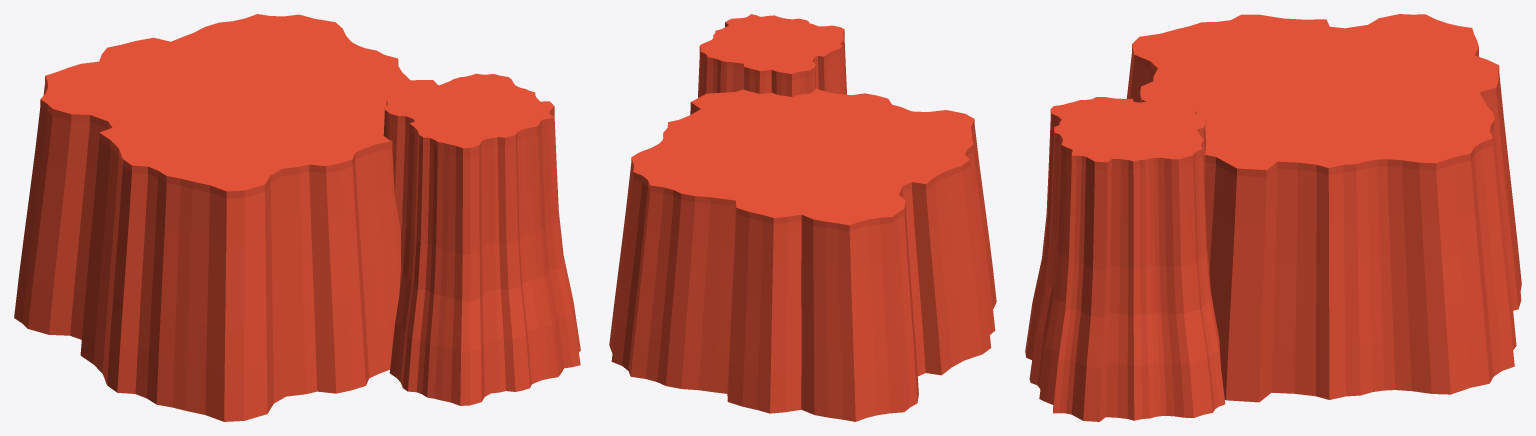
The model's file is land.fbx.
3 renders of one model, left to right at view 1: azimuth 30°, elevation 25°; view 2: azimuth 150°, elevation 25°; view 3: azimuth 270°, elevation 25°, orthographic. The views are drawn at different scales.
Visible parts, largest first — view 1: Land.001, Land; view 2: Land.001, Land; view 3: Land.001, Land.
Boxes of the visible parts, bbox=[...] form: Land.001: bbox=[14, 14, 437, 421]; Land: bbox=[383, 73, 580, 405]; Land.001: bbox=[609, 89, 996, 421]; Land: bbox=[698, 14, 846, 97]; Land.001: bbox=[1126, 14, 1521, 402]; Land: bbox=[1025, 96, 1225, 421].
Bounding box in the file's own units: 15288 × 9074 × 16399.
